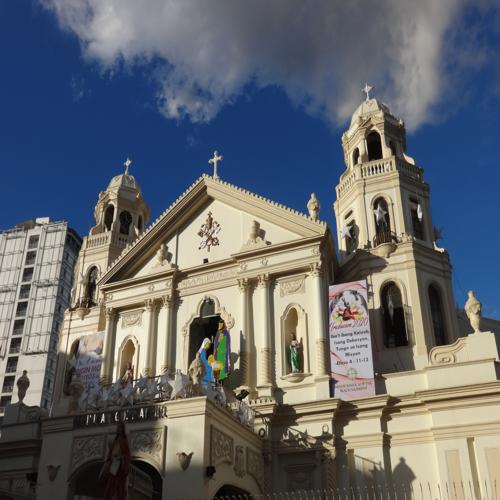Quiapo Church: (56, 79, 460, 462)
